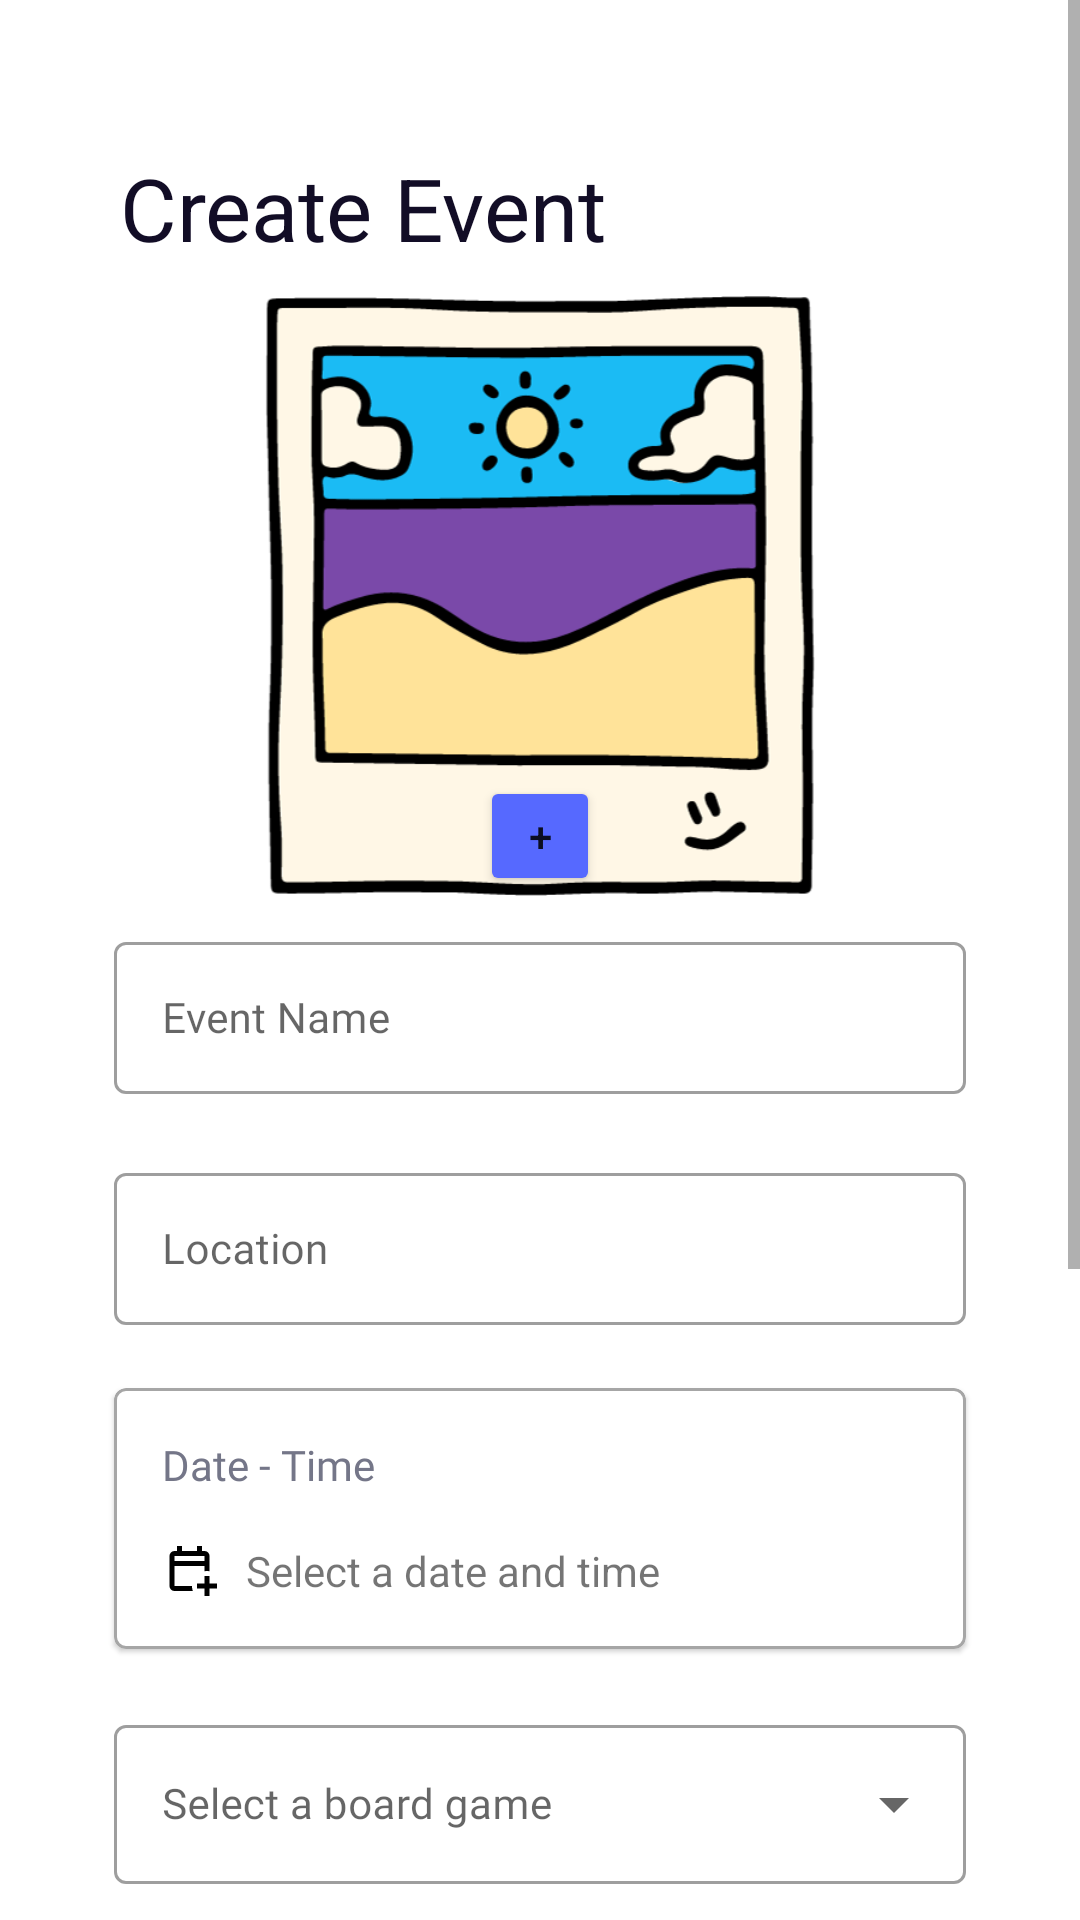

Icons on this 1080 × 1920 Android screen, each with its box as (x1, y1, x2, y2):
calendar add: (169, 1546, 217, 1596)
